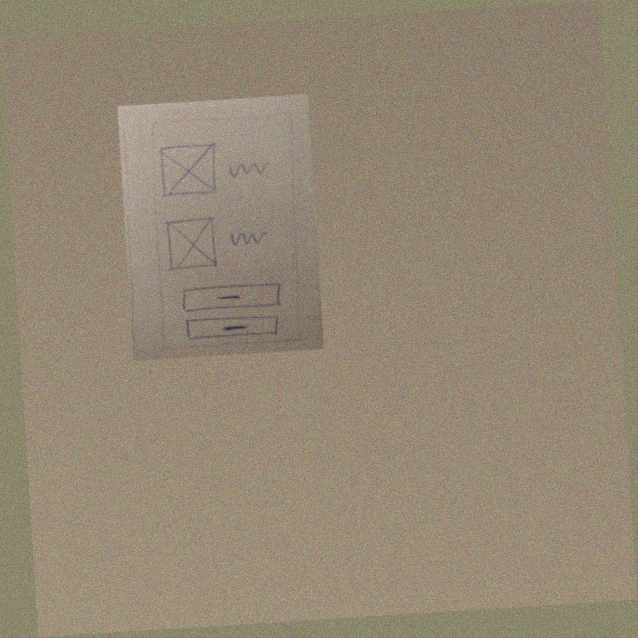button: (177, 280, 286, 316), (183, 313, 284, 343)
image: (157, 139, 222, 202), (161, 214, 221, 273)
text: (225, 157, 272, 181), (229, 227, 272, 249)
